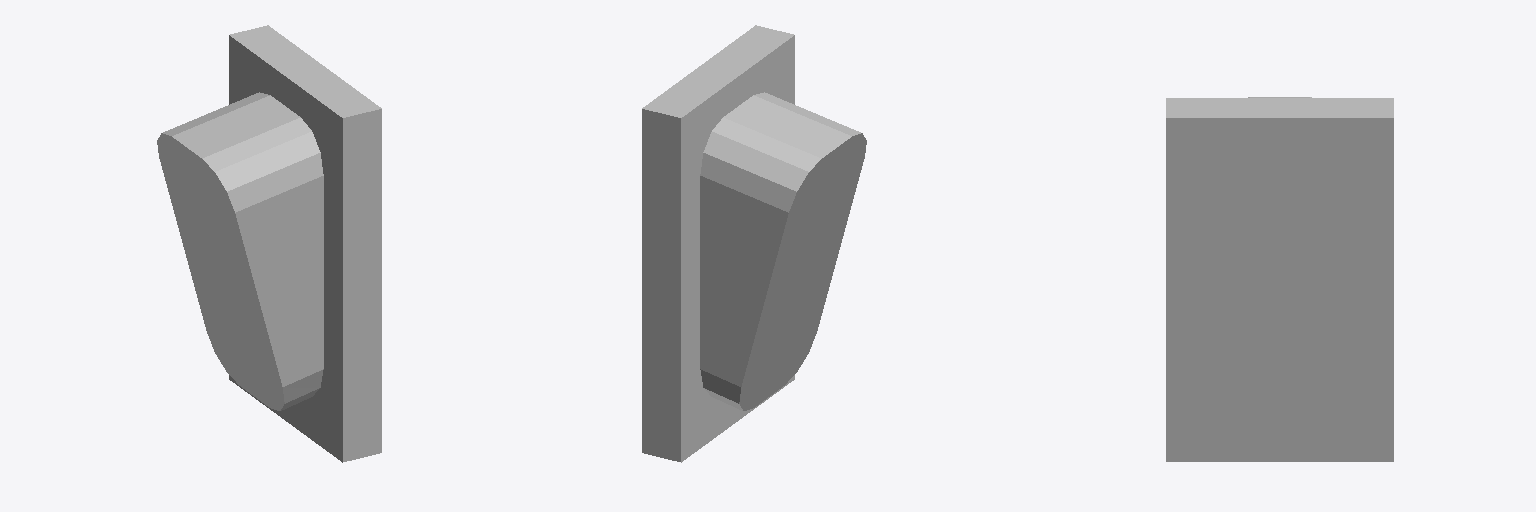
Rendered from light_bulb_0.obj.
3 renders of one model, left to right at view 1: azimuth 30°, elevation 25°; view 2: azimuth 150°, elevation 25°; view 3: azimuth 270°, elevation 25°, orthographic.
Visible parts, largest first — view 1: Cube.015; view 2: Cube.015; view 3: Cube.015.
Part boxes in pixels (left/top/right/bottom): Cube.015: left=157, top=25, right=381, bottom=462; Cube.015: left=642, top=25, right=866, bottom=462; Cube.015: left=1166, top=97, right=1393, bottom=461.
Size of the model in its own units: 1.05 by 2.5 by 1.5.